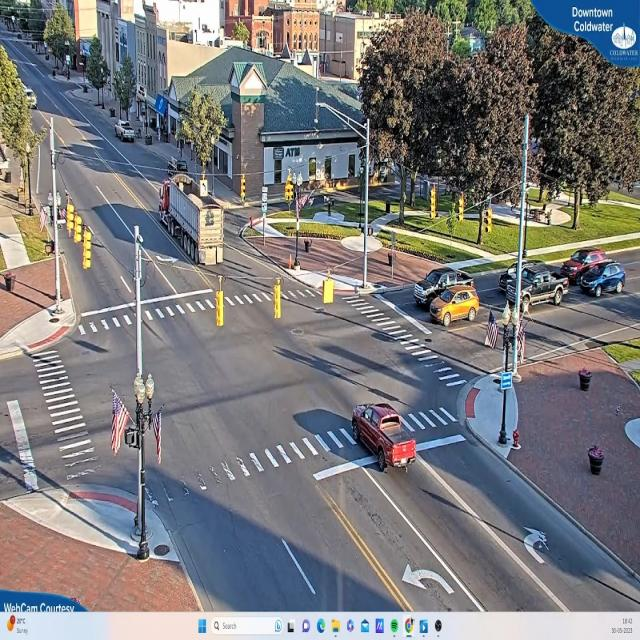car: (353, 406, 419, 474), (507, 266, 571, 308), (410, 265, 470, 307), (429, 283, 484, 323), (572, 259, 628, 298), (115, 122, 137, 143)
truck: (157, 173, 226, 268)
